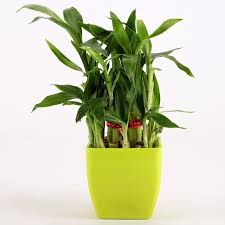bamboo: (11, 2, 215, 145)
